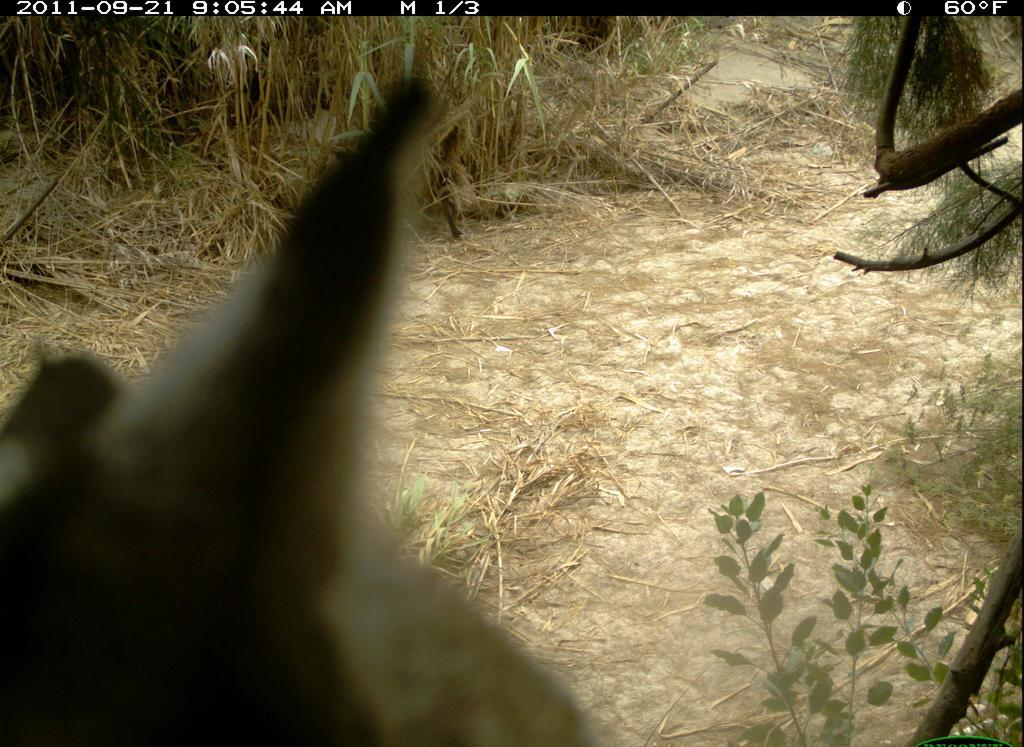bobcat: (9, 65, 620, 747)
